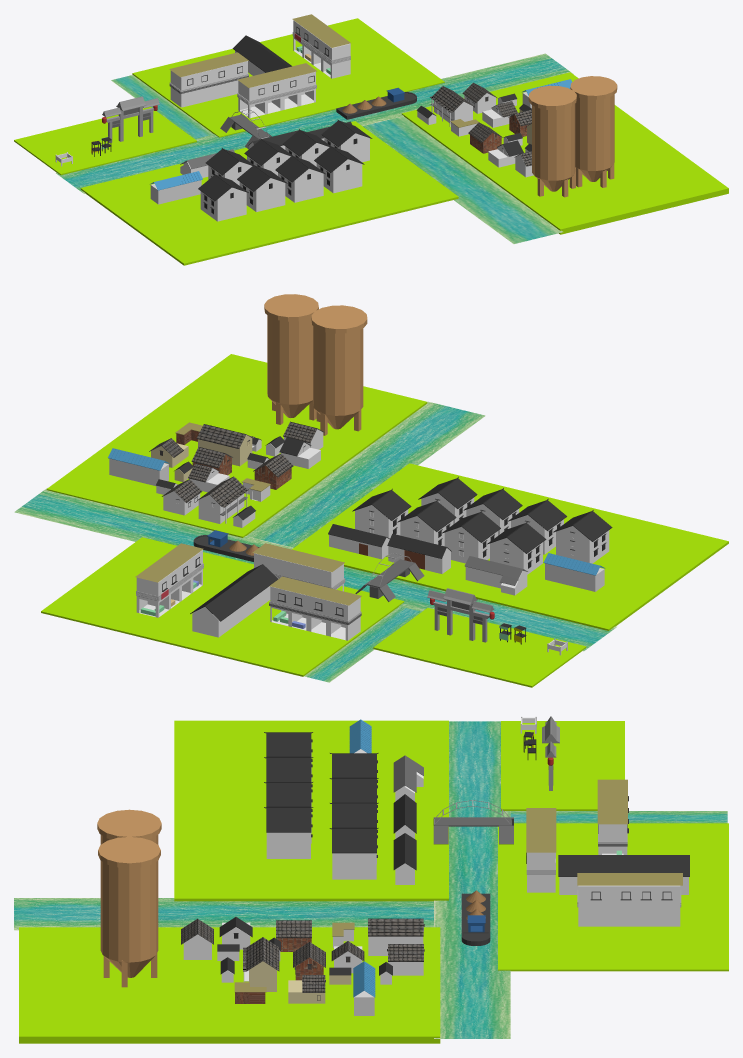
Rendered from Bacheng1_test1_merged2.glb.
3 renders of one model, top to bottom at view 1: azimuth 30°, elevation 25°; view 2: azimuth 150°, elevation 25°; view 3: azimuth 270°, elevation 25°, orthographic. The views are drawn at different scales.
Visible parts, largest first — view 1: Cube.297; view 2: Cube.297; view 3: Cube.297.
Boxes of the visible parts, box(x1,y1,x2,y2) form: Cube.297: box(14, 14, 728, 265); Cube.297: box(14, 294, 728, 687); Cube.297: box(14, 716, 728, 1043).
Bounding box in the file's own units: 52.07 × 10.17 × 49.56.
Materials: 27 (4 with a texture image).
